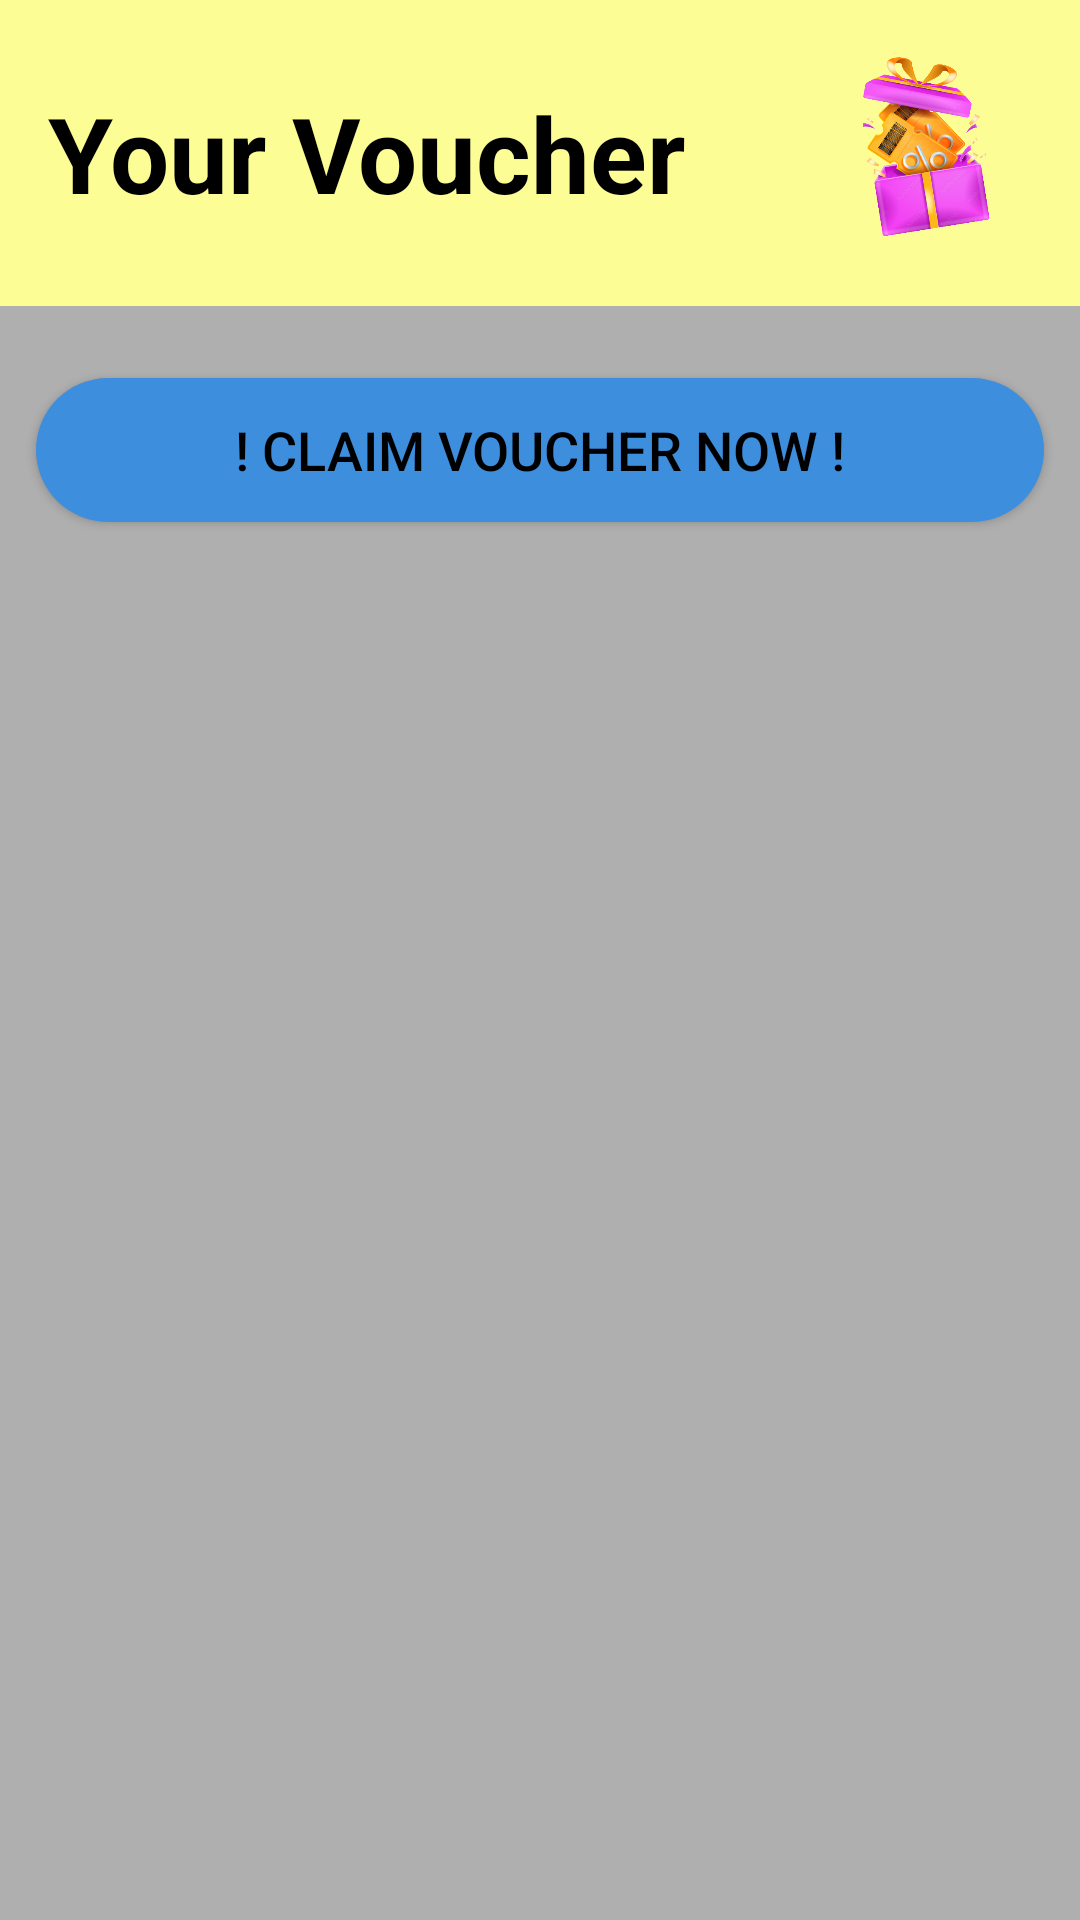

Icons on this 1080×1920 Android screen, each with the point to tap as (x=x, y=y):
voucher 3d: (x=926, y=146)
